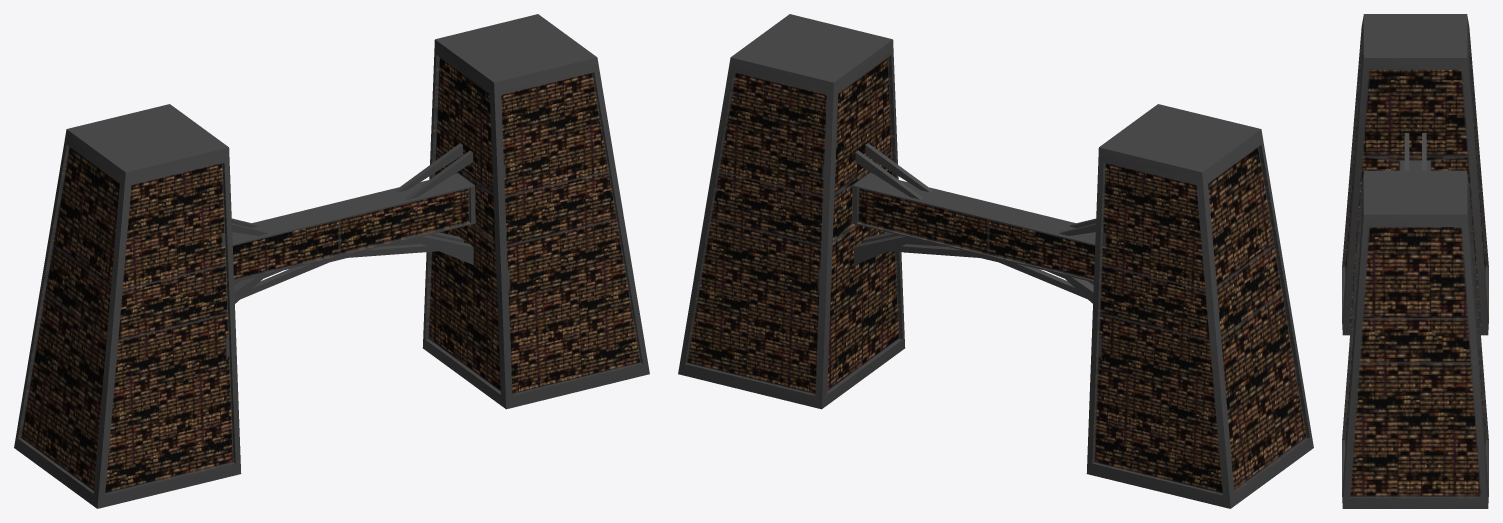
File: Skybridge.fbx
3 renders of one model, left to right at view 1: azimuth 30°, elevation 25°; view 2: azimuth 150°, elevation 25°; view 3: azimuth 270°, elevation 25°, orthographic. The views are drawn at different scales.
Parts seen in each view (by area): view 1: pCube10; view 2: pCube10; view 3: pCube10.
Boxes of the visible parts, x1,y1,x2,y2 form: pCube10: [14, 14, 649, 508]; pCube10: [678, 14, 1313, 508]; pCube10: [1342, 14, 1488, 508].
Size of the model in its own units: 61.73 by 33.94 by 16.29.
